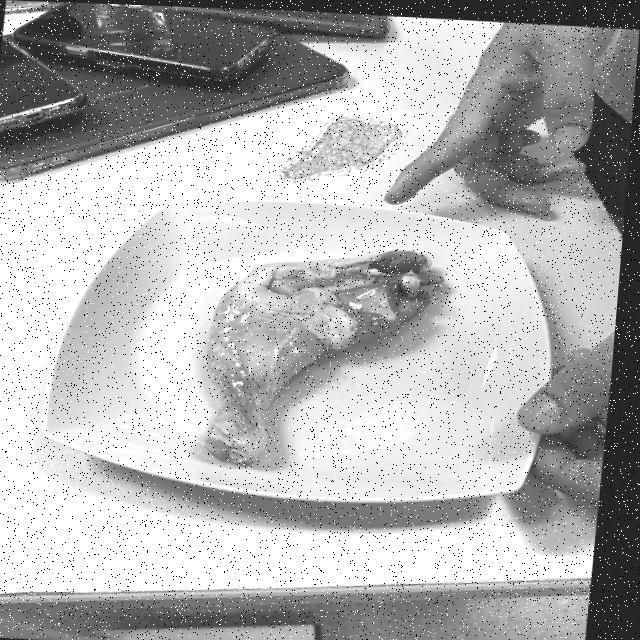quater: (196, 238, 441, 477)
